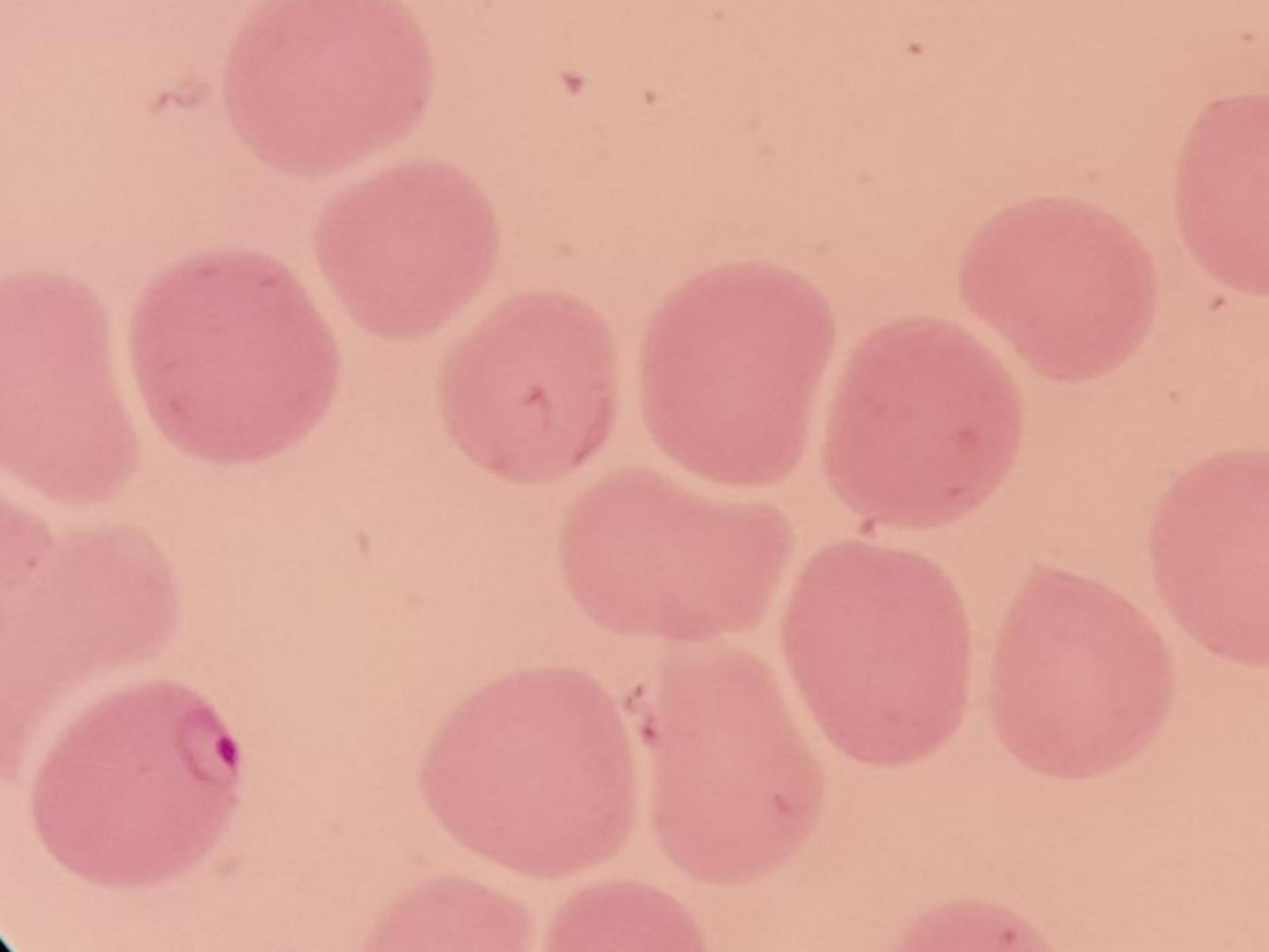Infected: (26, 683, 242, 886)
Uninfected: (126, 250, 341, 467), (414, 664, 629, 877), (630, 263, 833, 486), (650, 628, 823, 887), (0, 520, 170, 777), (784, 531, 965, 770), (828, 307, 1019, 532), (557, 465, 795, 645), (994, 558, 1169, 780), (958, 192, 1150, 386), (223, 0, 435, 175), (435, 285, 612, 488), (313, 161, 498, 345), (0, 272, 137, 514), (1148, 435, 1269, 671)
